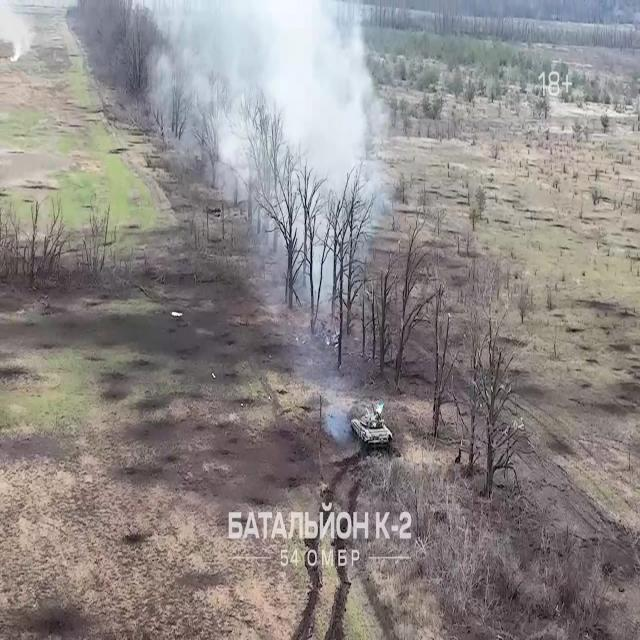tank: (352, 411, 393, 448)
